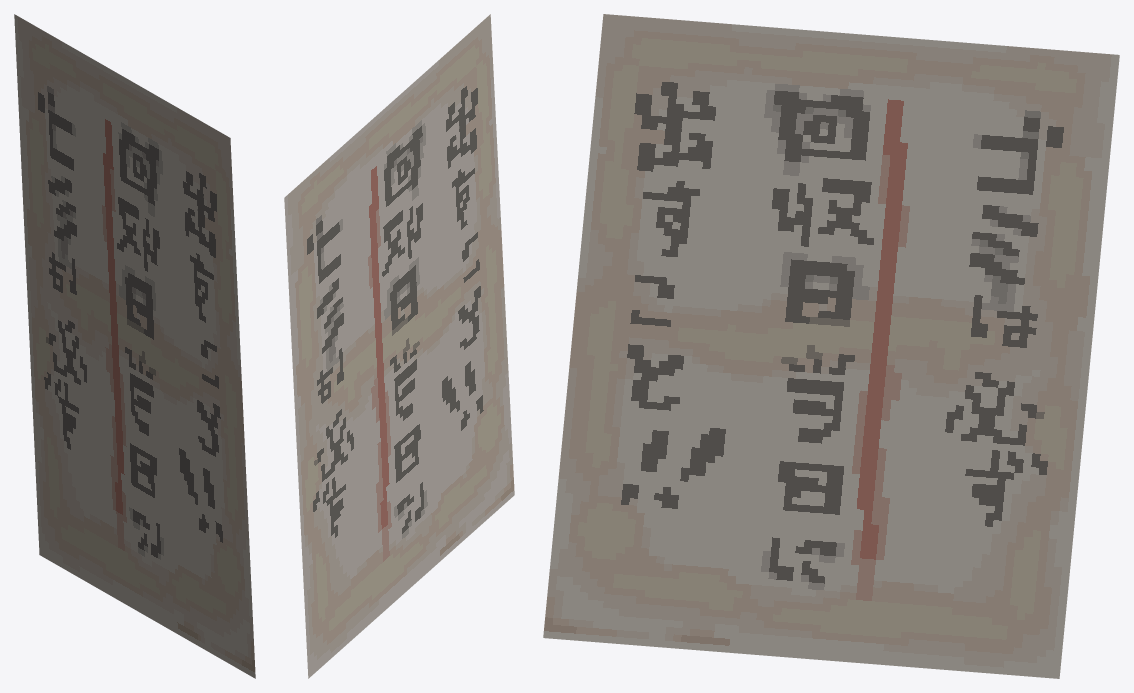
Rendered from kd_stage_135c43_0_12.glb.
3 renders of one model, left to right at view 1: azimuth 30°, elevation 25°; view 2: azimuth 150°, elevation 25°; view 3: azimuth 270°, elevation 25°, orthographic. The views are drawn at different scales.
Visible parts, largest first — view 1: kd_stage_135c43_0_12; view 2: kd_stage_135c43_0_12; view 3: kd_stage_135c43_0_12.
Part boxes in pixels (x1,y1,x2,y2): kd_stage_135c43_0_12: [14, 14, 255, 678]; kd_stage_135c43_0_12: [284, 14, 514, 678]; kd_stage_135c43_0_12: [543, 14, 1119, 678].
Bounding box in the file's own units: 0 × 0.6096 × 0.4791.
1 material, 1 textured.
